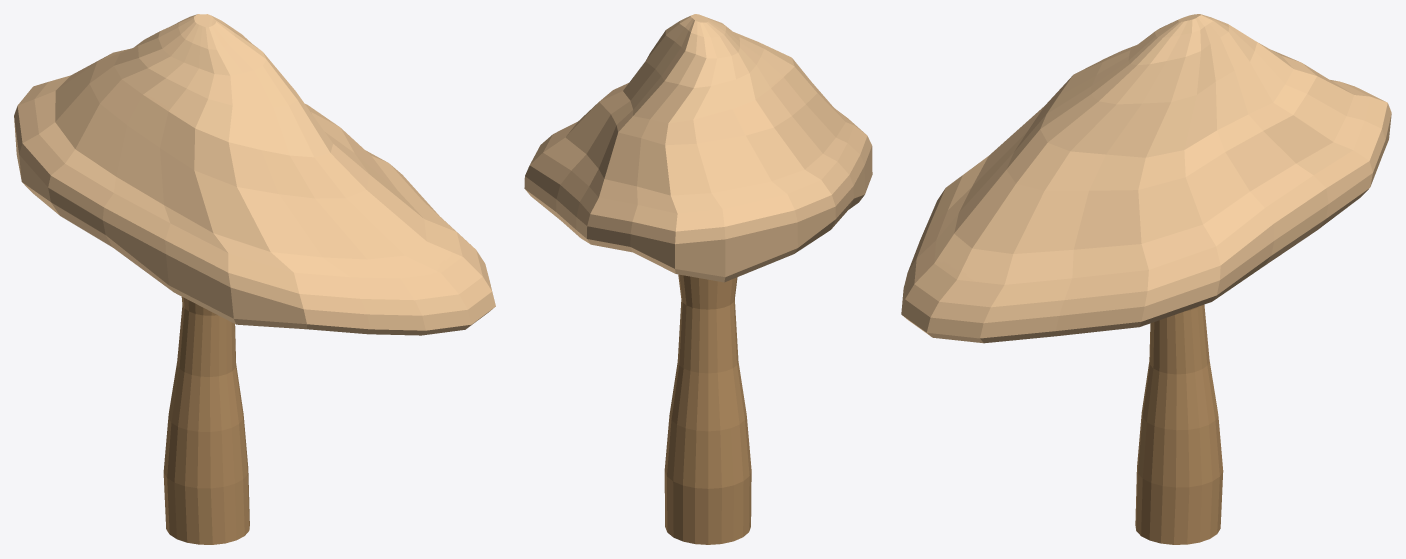
File: Mushroom_Large_02.fbx
The picture shows the model from 3 angles, left to right: view 1: azimuth 30°, elevation 25°; view 2: azimuth 150°, elevation 25°; view 3: azimuth 270°, elevation 25°; orthographic projection.
Visible parts, largest first — view 1: large_sized_mshrm_02; view 2: large_sized_mshrm_02; view 3: large_sized_mshrm_02.
Boxes of the visible parts, x1=… form: large_sized_mshrm_02: x1=14, y1=14, x2=495, y2=544; large_sized_mshrm_02: x1=524, y1=14, x2=872, y2=544; large_sized_mshrm_02: x1=901, y1=14, x2=1391, y2=544.
Bounding box in the file's own units: 18.64 × 27.26 × 23.63.
1 material, 1 textured.
